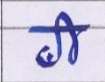i_matra: (57, 11, 80, 64)
